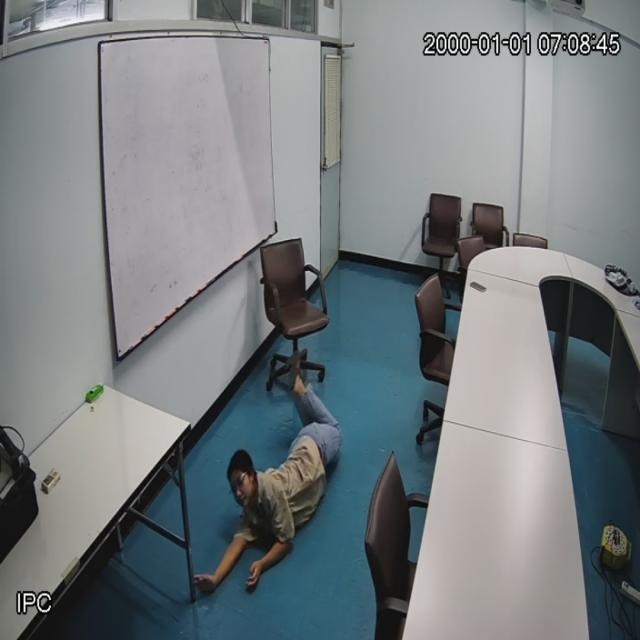fall: (212, 386, 342, 564)
